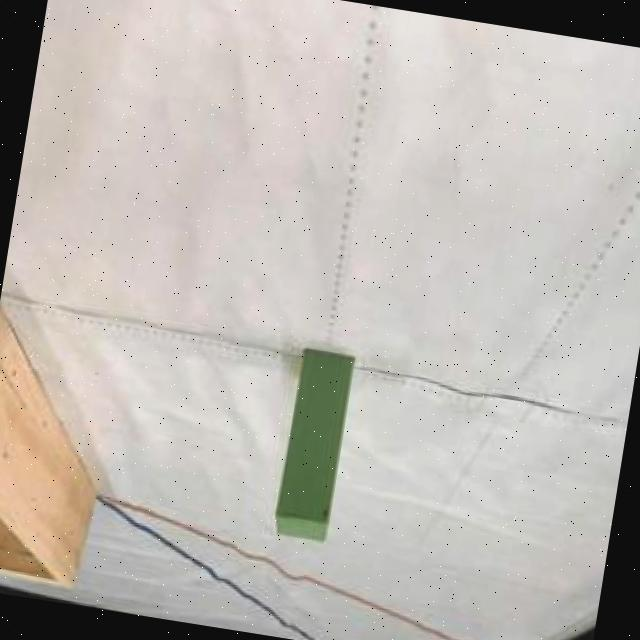greenbox: (268, 346, 356, 547)
